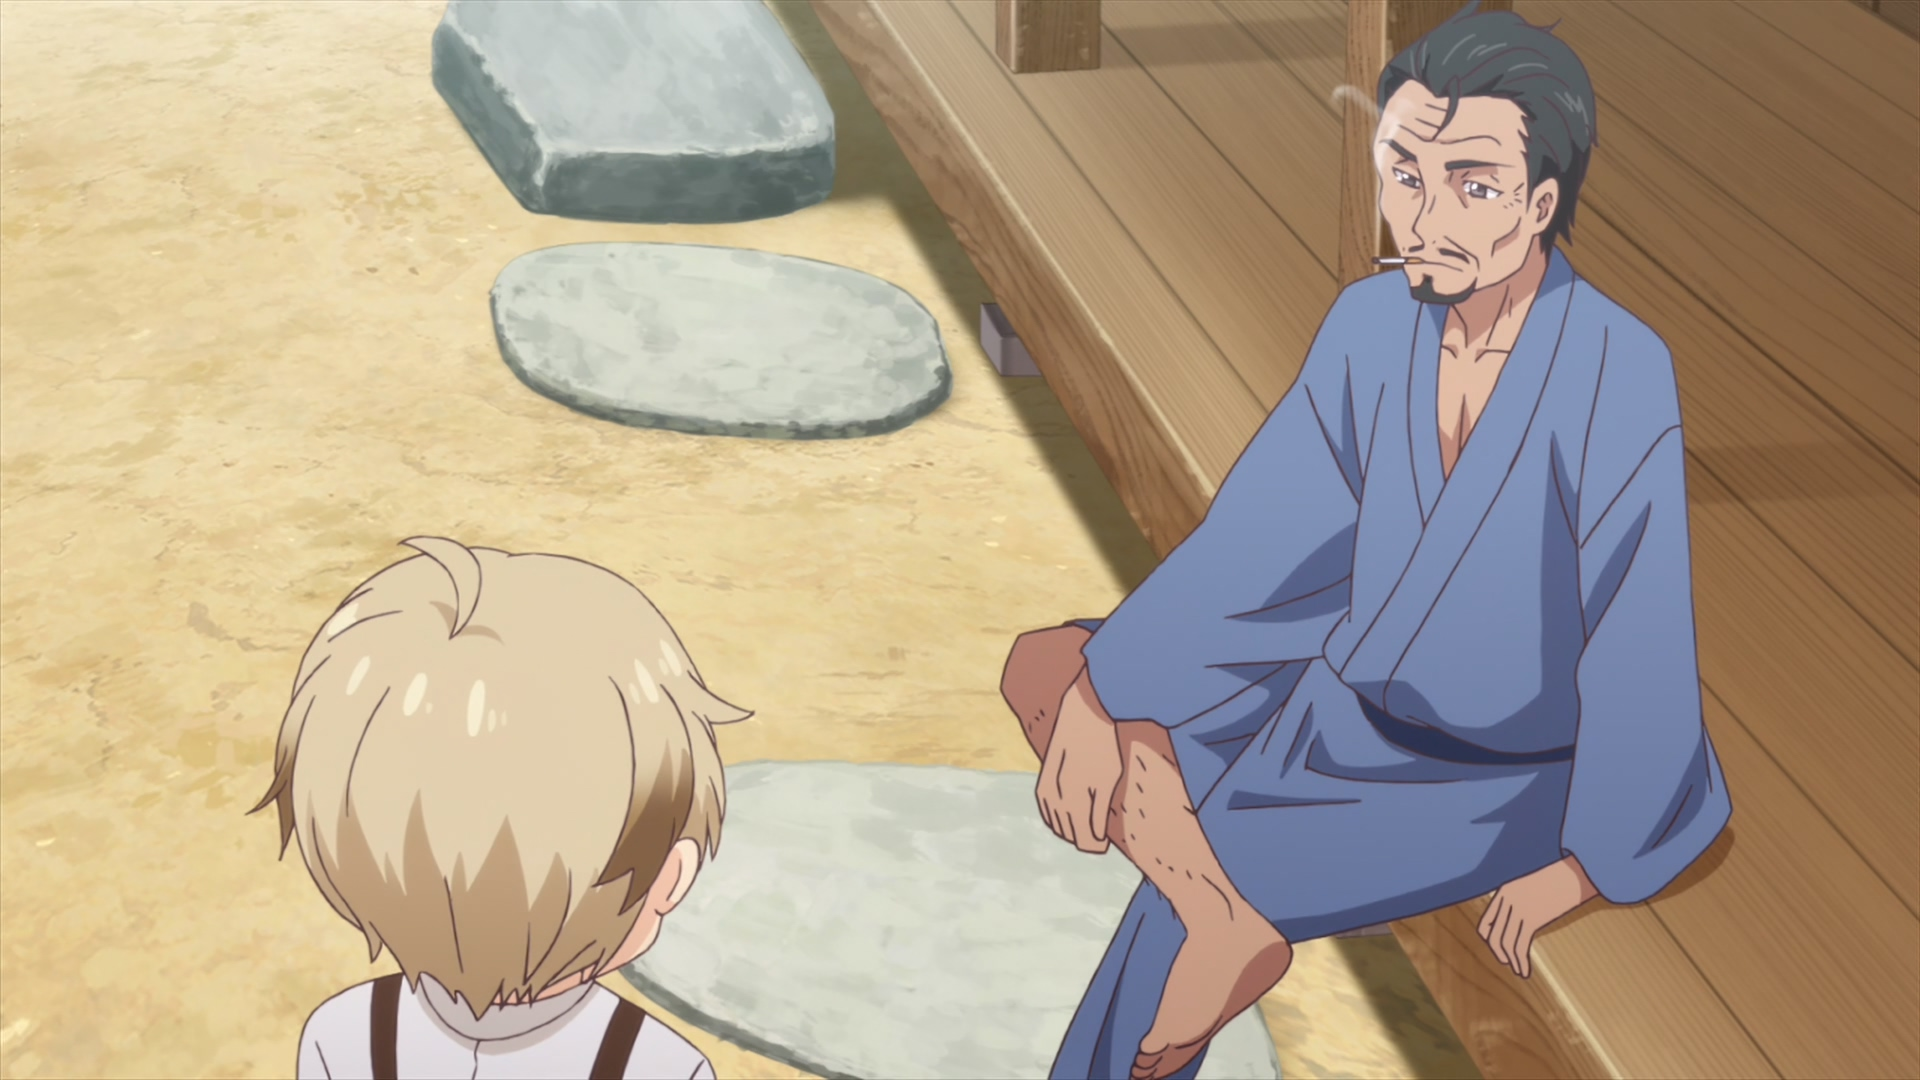其他: (1000, 1, 1734, 1080), (247, 534, 757, 1080)
